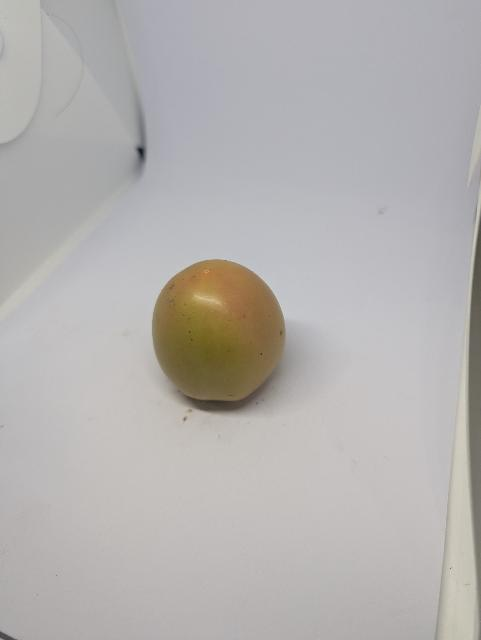turning: (139, 254, 297, 417)
